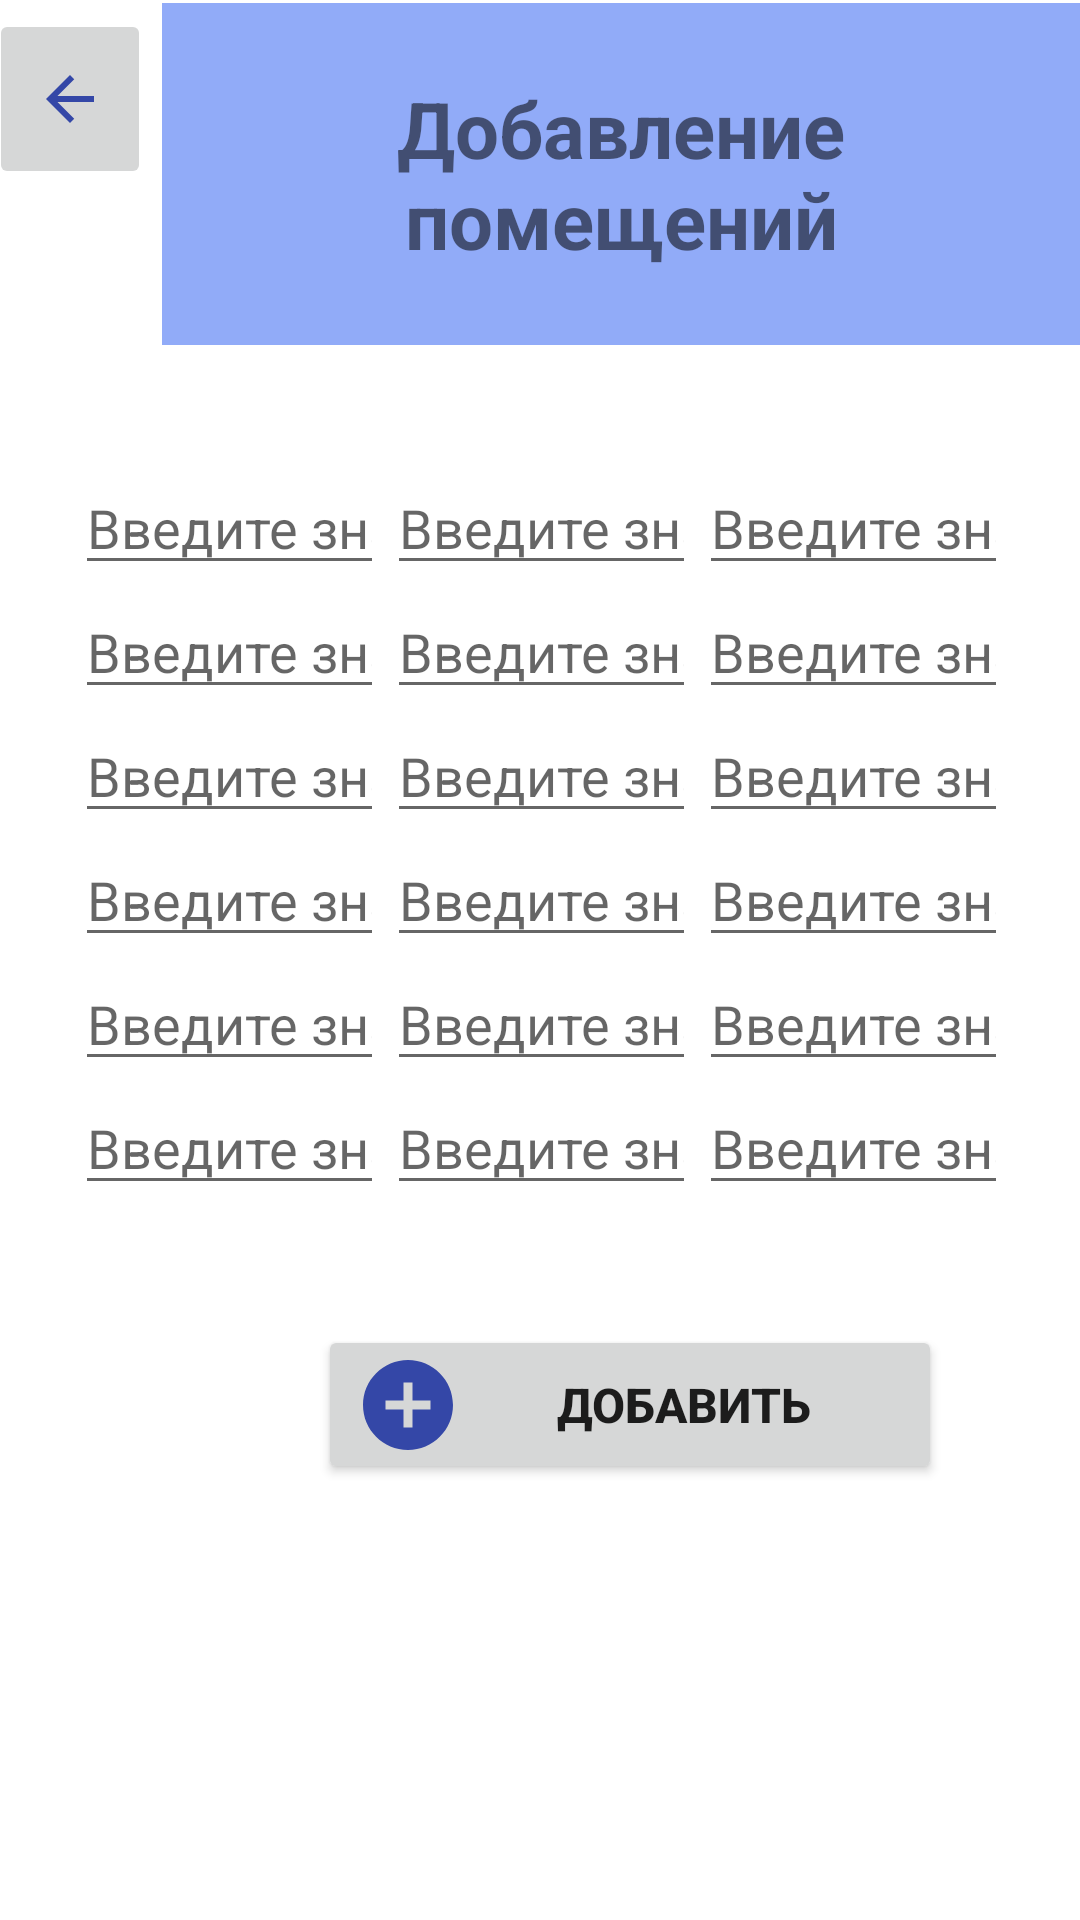

Icons on this 1080 × 1920 Android screen, each with its box as (x1, y1, x2, y2):
arrow back: (1, 27, 139, 171)
